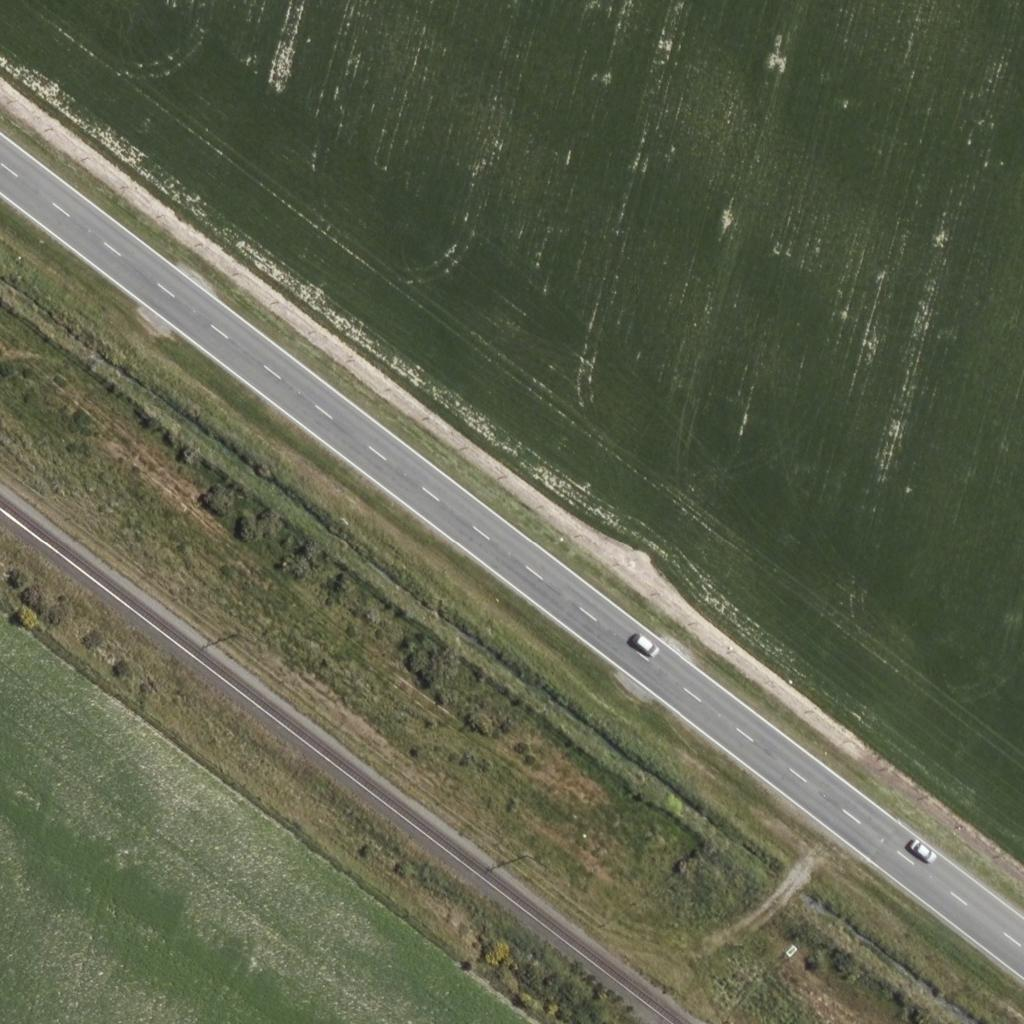car: (628, 626, 662, 660), (906, 833, 940, 867)
